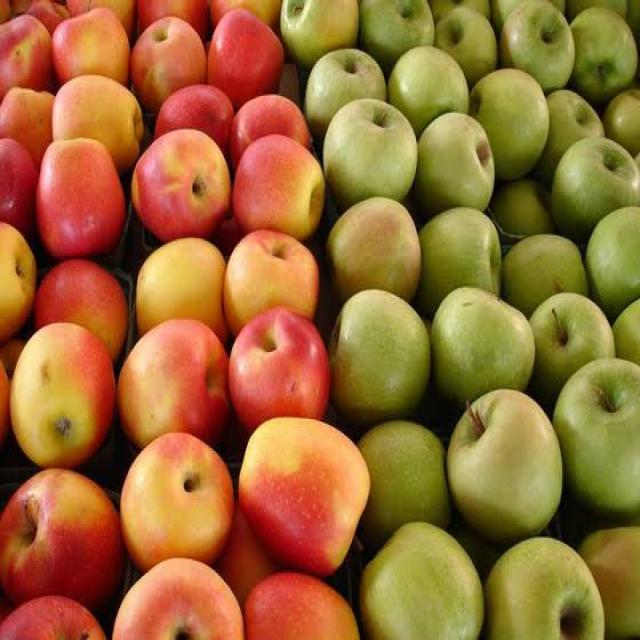Green Apple: (445, 387, 565, 541), (358, 519, 487, 640), (327, 288, 431, 420), (482, 536, 607, 639), (321, 96, 419, 207), (416, 204, 505, 315), (473, 68, 552, 181), (583, 204, 639, 320)
Red Apple: (237, 417, 373, 575), (119, 431, 237, 572), (9, 323, 116, 471), (129, 126, 233, 240), (34, 135, 127, 259), (224, 230, 321, 343), (134, 234, 227, 344), (231, 134, 327, 239), (51, 7, 134, 88), (1, 596, 121, 640), (1, 137, 41, 245)
